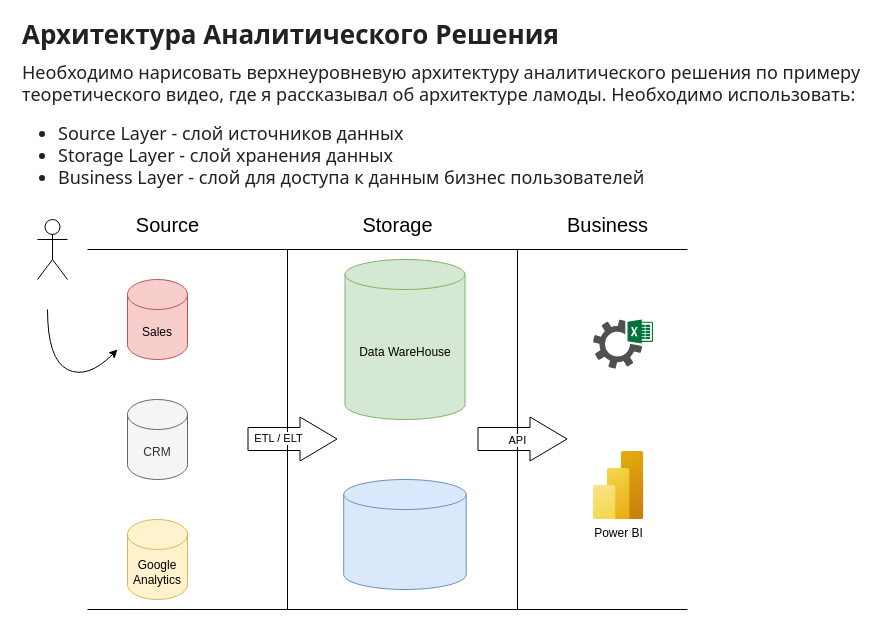
The diagram is 884 pixels wide and 628 high, and some of its shapes have lost their labels. The centre of each missing label's shape, as x and y in pixels:
"Customer" goes at (x=52, y=249).
"Data Lake" goes at (x=404, y=534).
"Excel" goes at (x=622, y=343).
